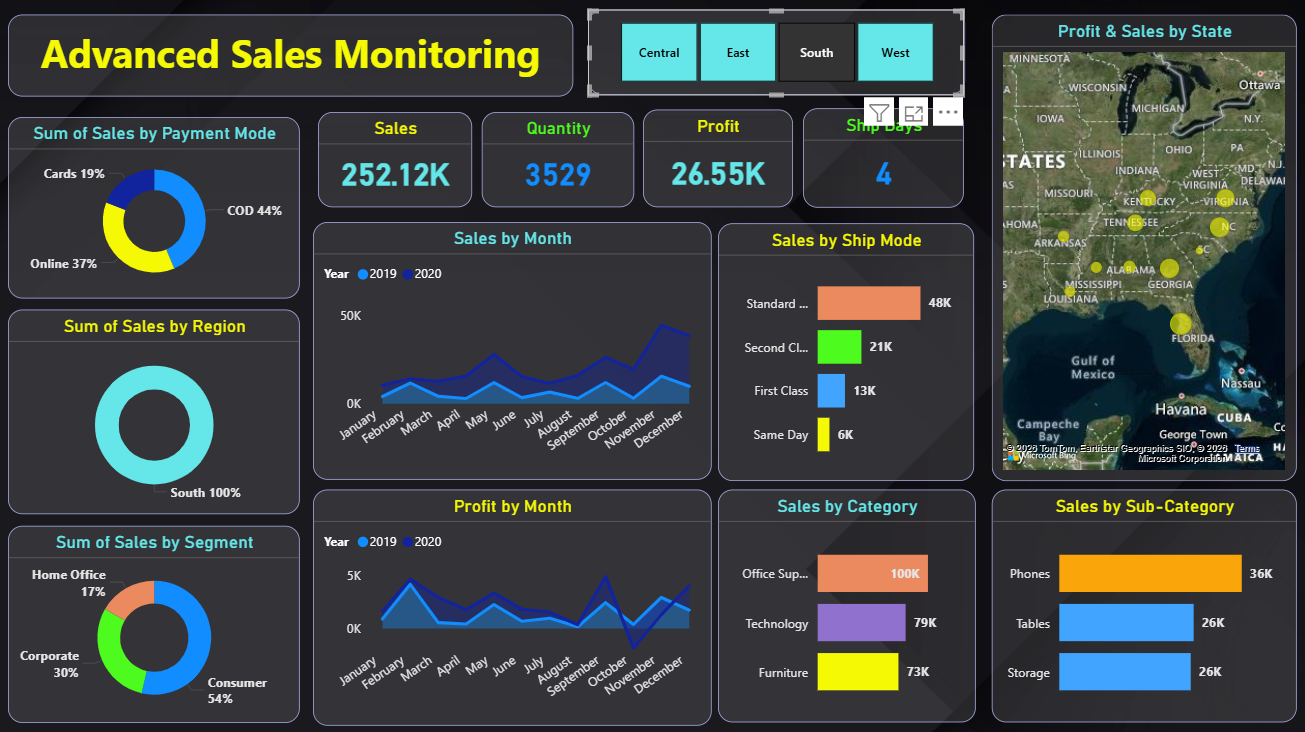

The dashboard page shown, as its layout file describes it:
{"tool":"powerbi","page":{"name":"Page 1","canvas":[1280,720],"ordinal":0},"visuals":[{"type":"barChart","title":" Sales by Category","fields":{"Y":["Sum(SuperStore_Sales_Dataset.Sales)"],"Category":["SuperStore_Sales_Dataset.Category"]},"box":[700,475,248.6,225],"z":0},{"type":"barChart","title":" Sales by Sub-Category","fields":{"Y":["Sum(SuperStore_Sales_Dataset.Sales)"],"Category":["SuperStore_Sales_Dataset.Sub-Category"]},"box":[963.9,475,294.4,225],"z":1000},{"type":"barChart","title":" Sales by Ship Mode","fields":{"Y":["Sum(SuperStore_Sales_Dataset.Sales)"],"Category":["SuperStore_Sales_Dataset.Ship Mode"]},"box":[700,218.1,247.2,248.6],"z":2000},{"type":"stackedAreaChart","title":"Sales by Month","fields":{"Y":["Sum(SuperStore_Sales_Dataset.Sales)"],"Category":["SuperStore_Sales_Dataset.Order Date.Variation.Date Hierarchy.Month","SuperStore_Sales_Dataset.Order Date.Variation.Date Hierarchy.Day"],"Series":["SuperStore_Sales_Dataset.Order Date.Variation.Date Hierarchy.Year"]},"box":[308.3,216.7,384.7,248.6],"z":3000},{"type":"stackedAreaChart","title":"Profit by Month","fields":{"Category":["SuperStore_Sales_Dataset.Order Date.Variation.Date Hierarchy.Month","SuperStore_Sales_Dataset.Order Date.Variation.Date Hierarchy.Day"],"Series":["SuperStore_Sales_Dataset.Order Date.Variation.Date Hierarchy.Year"],"Y":["Sum(SuperStore_Sales_Dataset.Profit)"]},"box":[308.3,475,384.7,227.8],"z":4000},{"type":"map","title":"Profit & Sales by State","fields":{"Size":["Sum(SuperStore_Sales_Dataset.Sales)"],"Category":["SuperStore_Sales_Dataset.State"]},"box":[963.9,16.7,294.4,450],"z":5000},{"type":"donutChart","fields":{"Category":["SuperStore_Sales_Dataset.Segment"],"Y":["Sum(SuperStore_Sales_Dataset.Sales)"]},"box":[13.9,509.7,281.9,190.3],"z":6000},{"type":"donutChart","fields":{"Y":["Sum(SuperStore_Sales_Dataset.Sales)"],"Category":["SuperStore_Sales_Dataset.Payment Mode"]},"box":[13.9,115.3,281.9,175],"z":7000},{"type":"slicer","fields":{"Values":["SuperStore_Sales_Dataset.Region"]},"box":[573.8,12.5,363.8,82.5],"z":8000},{"type":"textbox","box":[13.9,16.7,545.8,79.2],"z":9000},{"type":"card","title":"Sales","fields":{"Values":["Sum(SuperStore_Sales_Dataset.Sales)"]},"box":[313.9,111.1,148.6,91.7],"z":10000},{"type":"card","title":"Quantity","fields":{"Values":["Sum(SuperStore_Sales_Dataset.Quantity)"]},"box":[472.2,111.1,147.2,91.7],"z":11000},{"type":"card","title":"Profit","fields":{"Values":["Sum(SuperStore_Sales_Dataset.Profit)"]},"box":[627.8,108.3,144.4,94.4],"z":12000},{"type":"card","title":"Ship Days","fields":{"Values":["Avg(SuperStore_Sales_Dataset.AvgDelivery)"]},"box":[781.9,106.9,155.6,95.8],"z":13000},{"type":"donutChart","fields":{"Y":["Sum(SuperStore_Sales_Dataset.Sales)"],"Category":["SuperStore_Sales_Dataset.Region"]},"box":[13.9,301.4,281.9,197.2],"z":14000}]}

Visuals, with their boxes in screenshot pixels (x1, y1, x2, y2), scaled from the page's 1280x720 canvas onto the 1305x732 screenshot:
" Sales by Category" barChart: (left=714, top=483, right=967, bottom=712)
" Sales by Sub-Category" barChart: (left=983, top=483, right=1283, bottom=712)
" Sales by Ship Mode" barChart: (left=714, top=222, right=966, bottom=474)
"Sales by Month" stackedAreaChart: (left=314, top=220, right=707, bottom=473)
"Profit by Month" stackedAreaChart: (left=314, top=483, right=707, bottom=715)
"Profit & Sales by State" map: (left=983, top=17, right=1283, bottom=474)
donutChart - SuperStore_Sales_Dataset.Segment x Sum(SuperStore_Sales_Dataset.Sales): (left=14, top=518, right=302, bottom=712)
donutChart - Sum(SuperStore_Sales_Dataset.Sales) x SuperStore_Sales_Dataset.Payment Mode: (left=14, top=117, right=302, bottom=295)
slicer - SuperStore_Sales_Dataset.Region: (left=585, top=13, right=956, bottom=97)
textbox: (left=14, top=17, right=571, bottom=97)
"Sales" card: (left=320, top=113, right=472, bottom=206)
"Quantity" card: (left=481, top=113, right=631, bottom=206)
"Profit" card: (left=640, top=110, right=787, bottom=206)
"Ship Days" card: (left=797, top=109, right=956, bottom=206)
donutChart - Sum(SuperStore_Sales_Dataset.Sales) x SuperStore_Sales_Dataset.Region: (left=14, top=306, right=302, bottom=507)
